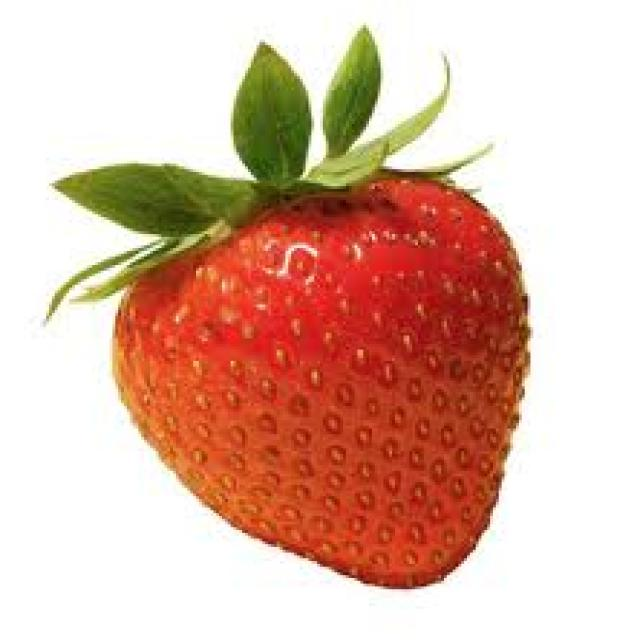srawberry: (40, 9, 528, 584)
